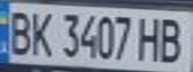0: (97, 11, 118, 61)
3: (57, 9, 81, 58)
4: (78, 10, 100, 60)
7: (112, 12, 136, 61)
B: (154, 15, 190, 63), (3, 7, 33, 56)
H: (136, 12, 166, 62)
K: (27, 7, 57, 57)
